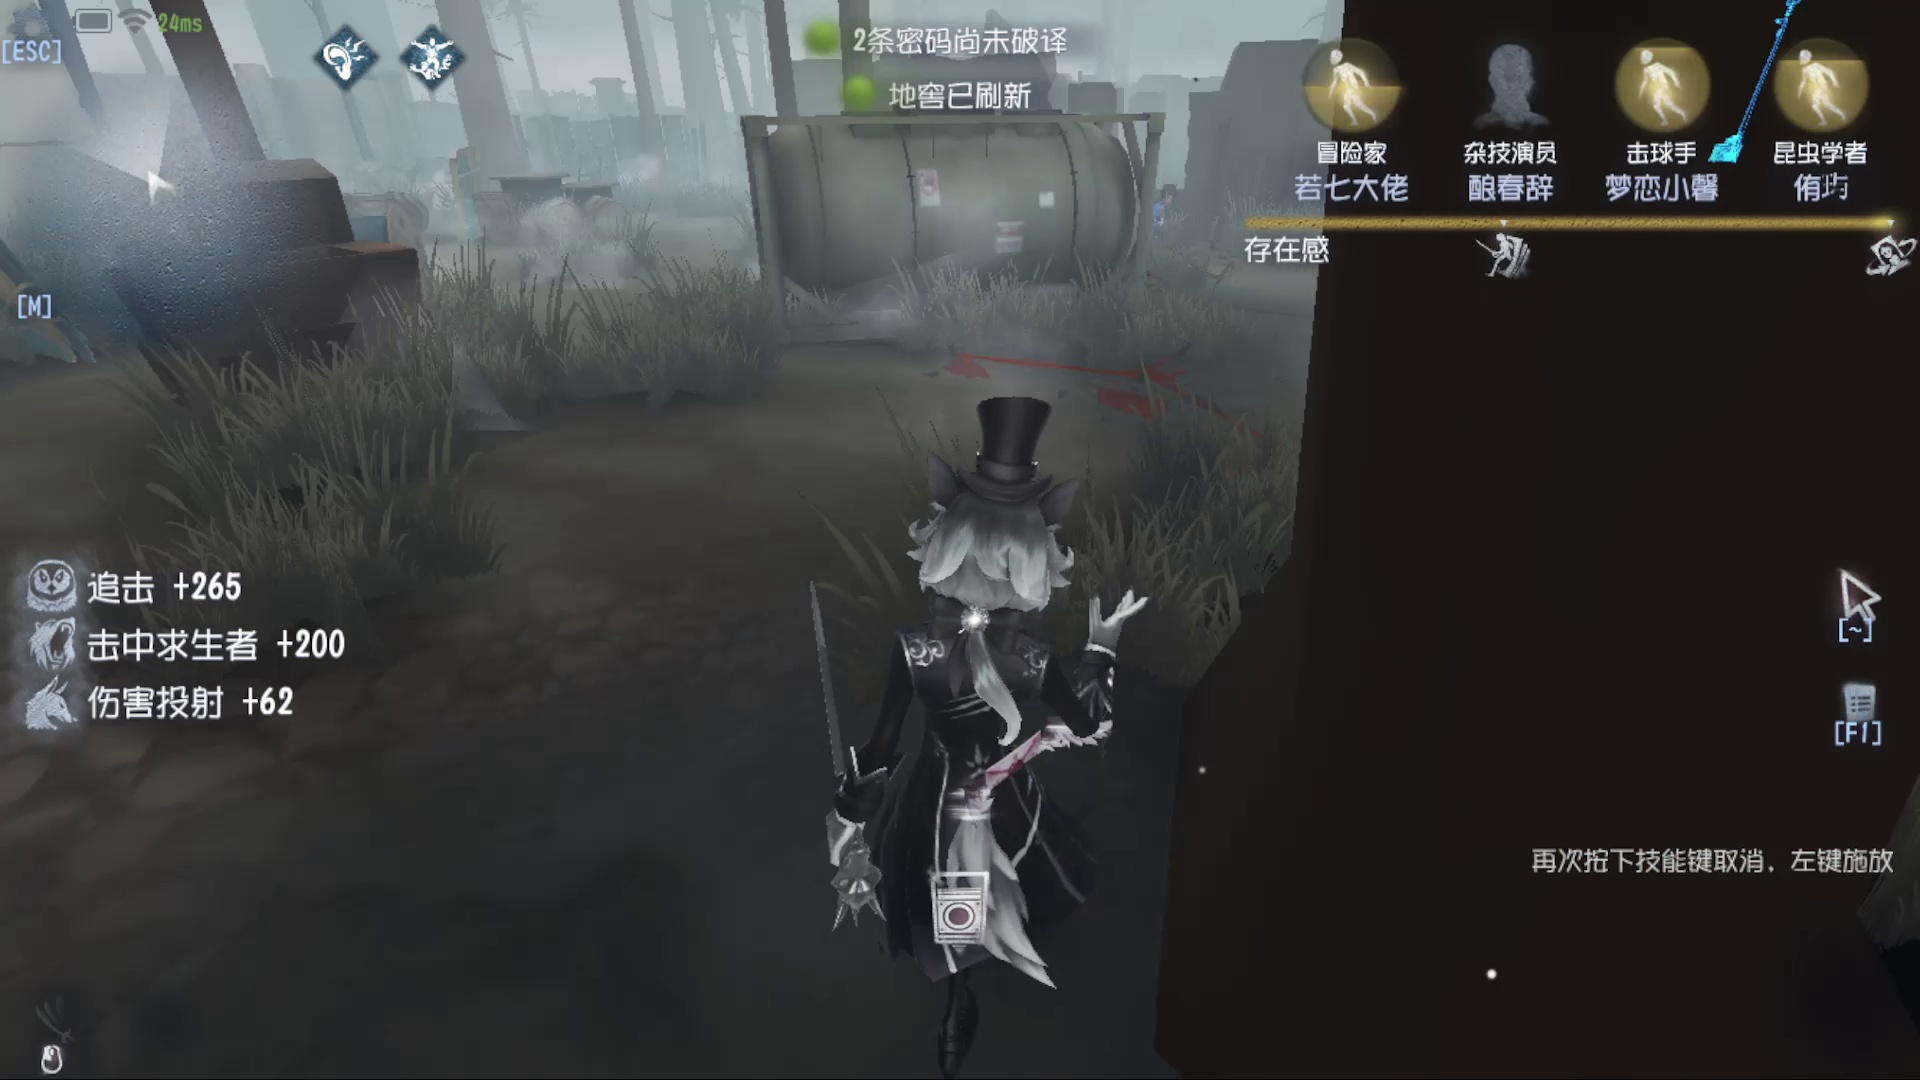脚印: (928, 309, 1251, 433)
